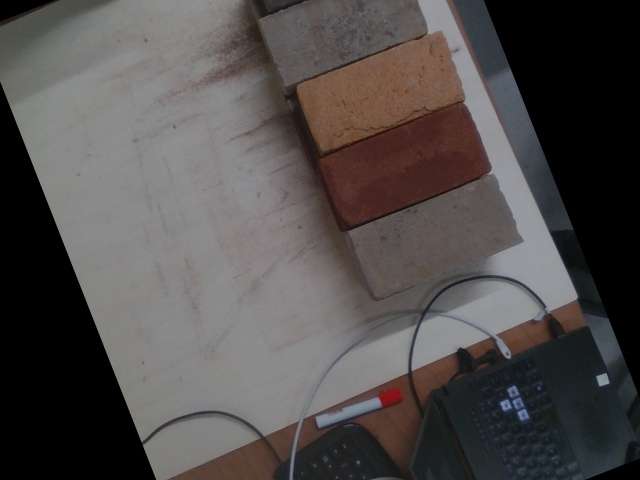brick: (352, 173, 519, 301), (322, 102, 489, 226), (298, 32, 465, 150)
